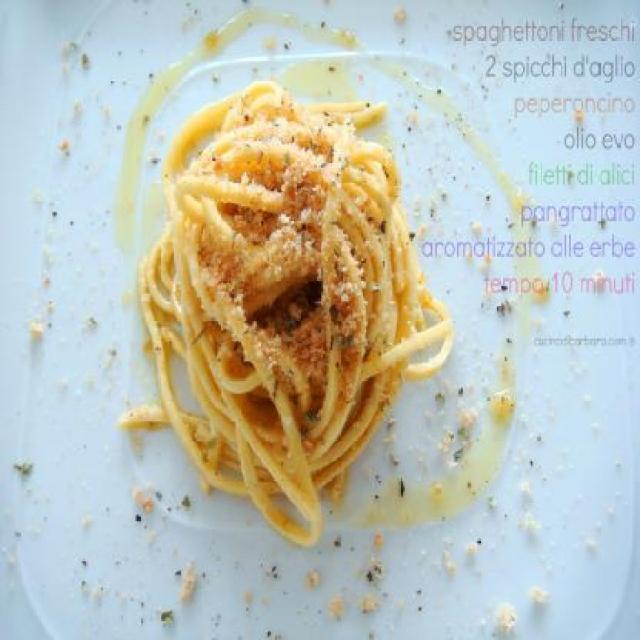Oil pasta: (106, 58, 506, 580)
